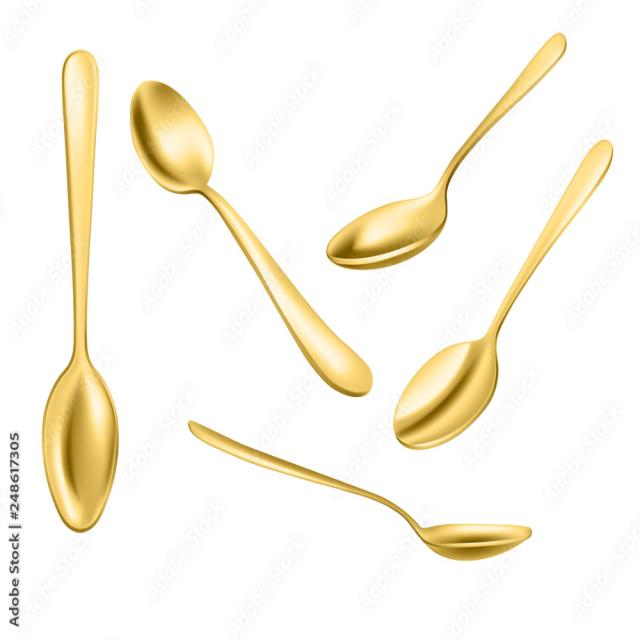spoon: (36, 38, 126, 544)
